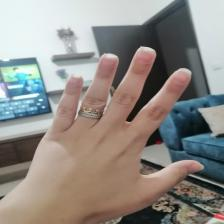five: (48, 43, 206, 214)
